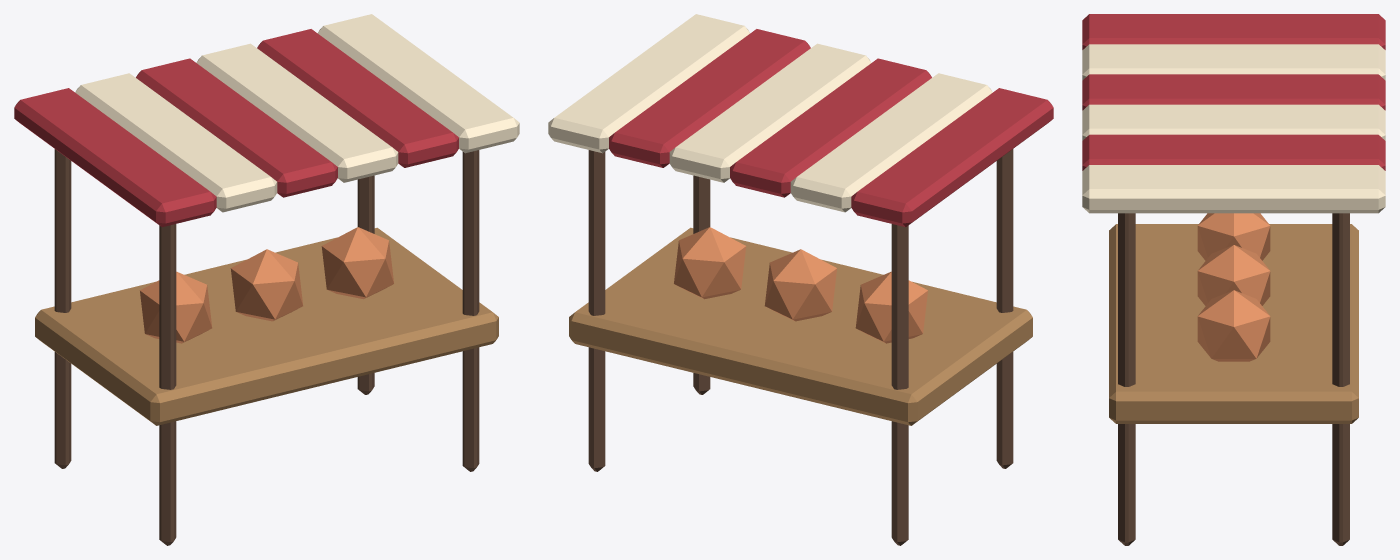
The model's file is market-stall.glb.
3 views of the same model, side by side, from view 1: azimuth 30°, elevation 25°; view 2: azimuth 150°, elevation 25°; view 3: azimuth 270°, elevation 25° (orthographic). The views are drawn at different scales.
Visible parts, largest first — view 1: counter, awning, awning.001, awning.002, awning.005, awning.003, awning.004, stall-post, stall-post.002, stall-post.001, produce.001, produce.002 (+2 smaller); view 2: counter, awning, awning.001, awning.002, awning.005, awning.003, awning.004, stall-post.001, stall-post.003, stall-post, produce.001, produce.002 (+2 smaller); view 3: counter, awning.005, awning, awning.004, awning.001, awning.002, awning.003, stall-post.002, stall-post.003, produce.002, produce.001, produce.
Part boxes in pixels (x1=…): counter: x1=35, y1=227, x2=498, y2=425; awning: x1=14, y1=88, x2=216, y2=227; awning.001: x1=75, y1=73, x2=277, y2=212; awning.002: x1=136, y1=58, x2=337, y2=197; awning.005: x1=317, y1=14, x2=519, y2=153; awning.003: x1=196, y1=43, x2=398, y2=182; awning.004: x1=257, y1=29, x2=458, y2=167; stall-post: x1=159, y1=224, x2=176, y2=545; stall-post.002: x1=462, y1=150, x2=479, y2=471; stall-post.001: x1=54, y1=149, x2=71, y2=468; produce.001: x1=230, y1=249, x2=303, y2=321; produce.002: x1=321, y1=227, x2=393, y2=299; counter: x1=569, y1=227, x2=1032, y2=425; awning: x1=851, y1=88, x2=1053, y2=227; awning.001: x1=790, y1=73, x2=992, y2=212; awning.002: x1=730, y1=58, x2=931, y2=197; awning.005: x1=548, y1=14, x2=750, y2=153; awning.003: x1=669, y1=43, x2=871, y2=182; awning.004: x1=609, y1=29, x2=810, y2=167; stall-post.001: x1=891, y1=224, x2=908, y2=545; stall-post.003: x1=588, y1=150, x2=605, y2=471; stall-post: x1=996, y1=149, x2=1013, y2=468; produce.001: x1=764, y1=249, x2=837, y2=321; produce.002: x1=674, y1=227, x2=746, y2=299; counter: x1=1109, y1=224, x2=1358, y2=423; awning.005: x1=1082, y1=165, x2=1385, y2=213; awning: x1=1082, y1=14, x2=1385, y2=49; awning.004: x1=1082, y1=134, x2=1385, y2=170; awning.001: x1=1082, y1=44, x2=1385, y2=80; awning.002: x1=1082, y1=74, x2=1385, y2=110; awning.003: x1=1082, y1=104, x2=1385, y2=140; stall-post.002: x1=1118, y1=213, x2=1135, y2=545; stall-post.003: x1=1332, y1=213, x2=1349, y2=545; produce.002: x1=1197, y1=290, x2=1270, y2=361; produce.001: x1=1197, y1=245, x2=1270, y2=305; produce: x1=1197, y1=213, x2=1270, y2=260.
Bounding box in the file's own units: 2.4 × 2.28 × 1.7.
